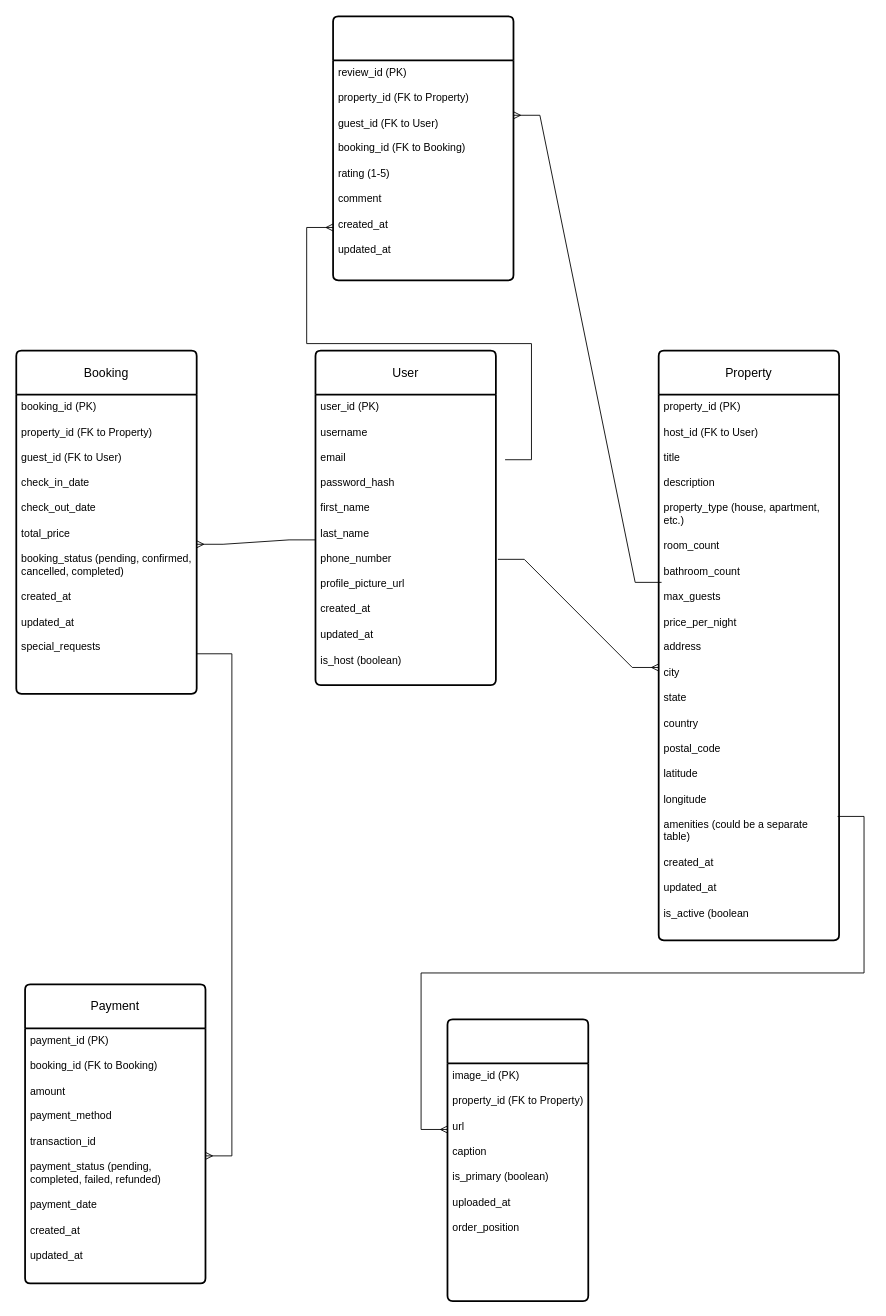
This 886x1316 diagram has some shape labels left out. The box of each missing label's shape, as (x1, y1, x2, y2) in pixels:
Images: (446, 1018, 589, 1302)
Reviews: (332, 15, 514, 281)
